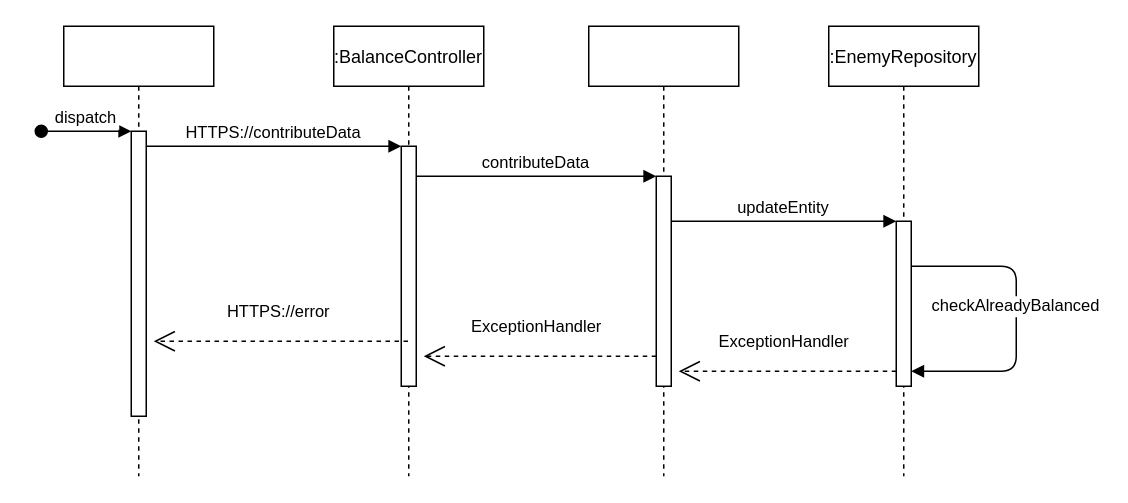
The diagram is 1128 pixels wide and 503 high, and some of its shapes have lost their labels. Here are the shapes that lost their labels. From the top down, the box of each, then its label:
(62, 25, 214, 476): Death or Kill in FRONTEND
(587, 25, 739, 476): :BalanceService
